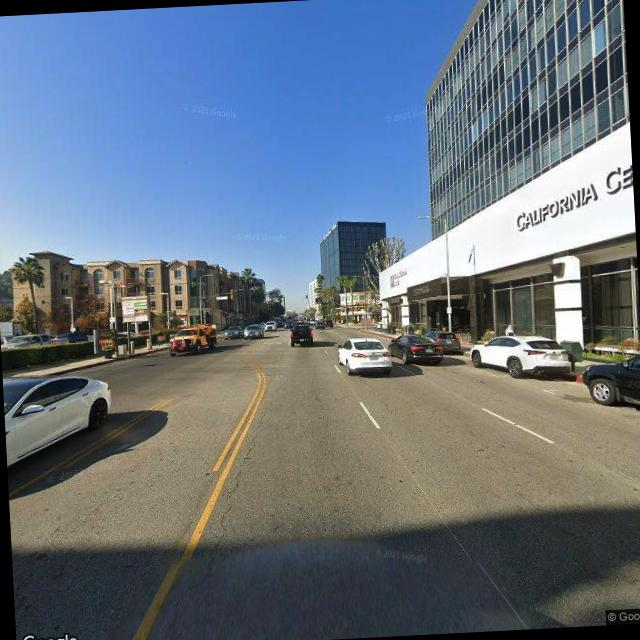pothole: (202, 405, 276, 546)
